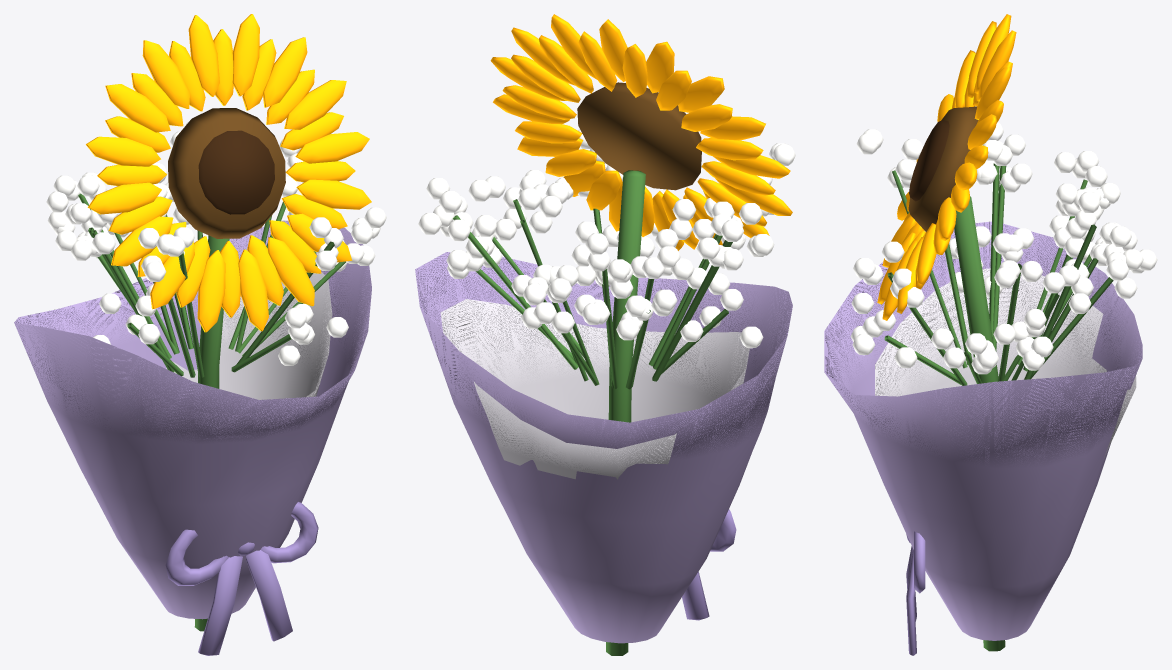
Rendered from bouquet.glb.
3 views of the same model, side by side, from view 1: azimuth 30°, elevation 25°; view 2: azimuth 150°, elevation 25°; view 3: azimuth 270°, elevation 25° (orthographic). The views are drawn at different scales.
Visible parts, largest first — view 1: wrap_outer, wrap_inner, sunflower_disc, sunflower_seeds, ribbon_tail-1, ribbon_tail1, sunflower_petal0_4, sunflower_petal0_11, sunflower_petal0_12, sunflower_stem, sunflower_petal0_3, sunflower_petal0_5 (+31 smaller); view 2: wrap_outer, wrap_inner, sunflower_disc, sunflower_stem, sunflower_petal1_1, sunflower_petal1_8, sunflower_petal1_0, sunflower_petal1_2, sunflower_petal1_7, sunflower_petal1_15, sunflower_petal1_3, sunflower_petal0_6 (+22 smaller); view 3: wrap_outer, wrap_inner, sunflower_stem, sunflower_disc, sunflower_seeds, breath_stem17, sunflower_petal0_4, breath_stem5, sunflower_petal0_15, sunflower_petal0_3, sunflower_petal0_5, ribbon_tail1 (+14 smaller).
Boxes of the visible parts, x1,y1,x2,y2 form: wrap_outer: (14, 220, 371, 619); wrap_inner: (166, 272, 332, 399); sunflower_disc: (168, 108, 285, 238); sunflower_seeds: (198, 130, 274, 214); ribbon_tail-1: (198, 556, 242, 655); ribbon_tail1: (246, 546, 292, 641); sunflower_petal0_4: (188, 15, 219, 96); sunflower_petal0_11: (197, 250, 225, 332); sunflower_petal0_12: (238, 249, 268, 331); sunflower_stem: (194, 235, 229, 631); sunflower_petal0_3: (232, 14, 259, 96); sunflower_petal0_5: (142, 40, 189, 108); wrap_outer: (415, 252, 792, 643); wrap_inner: (440, 299, 749, 479); sunflower_disc: (577, 82, 701, 190); sunflower_stem: (606, 170, 645, 655); sunflower_petal1_1: (511, 54, 580, 102); sunflower_petal1_8: (701, 161, 775, 195); sunflower_petal1_0: (502, 85, 576, 119); sunflower_petal1_2: (539, 35, 593, 93); sunflower_petal1_7: (696, 138, 763, 160); sunflower_petal1_15: (515, 121, 582, 143); sunflower_petal1_3: (578, 31, 617, 91); sunflower_petal0_6: (678, 76, 724, 112); wrap_outer: (824, 221, 1142, 640); wrap_inner: (875, 268, 1136, 459); sunflower_stem: (954, 196, 1005, 651); sunflower_disc: (908, 106, 978, 231); sunflower_seeds: (909, 120, 949, 201); breath_stem17: (989, 163, 999, 336); sunflower_petal0_4: (977, 30, 1016, 101); breath_stem5: (992, 166, 1006, 351); sunflower_petal0_15: (916, 223, 936, 284); sunflower_petal0_3: (974, 67, 1011, 119); sunflower_petal0_5: (974, 14, 1011, 93); ribbon_tail1: (906, 549, 916, 655).
Bounding box in the file's own units: 0.2877 × 0.5036 × 0.2455.
